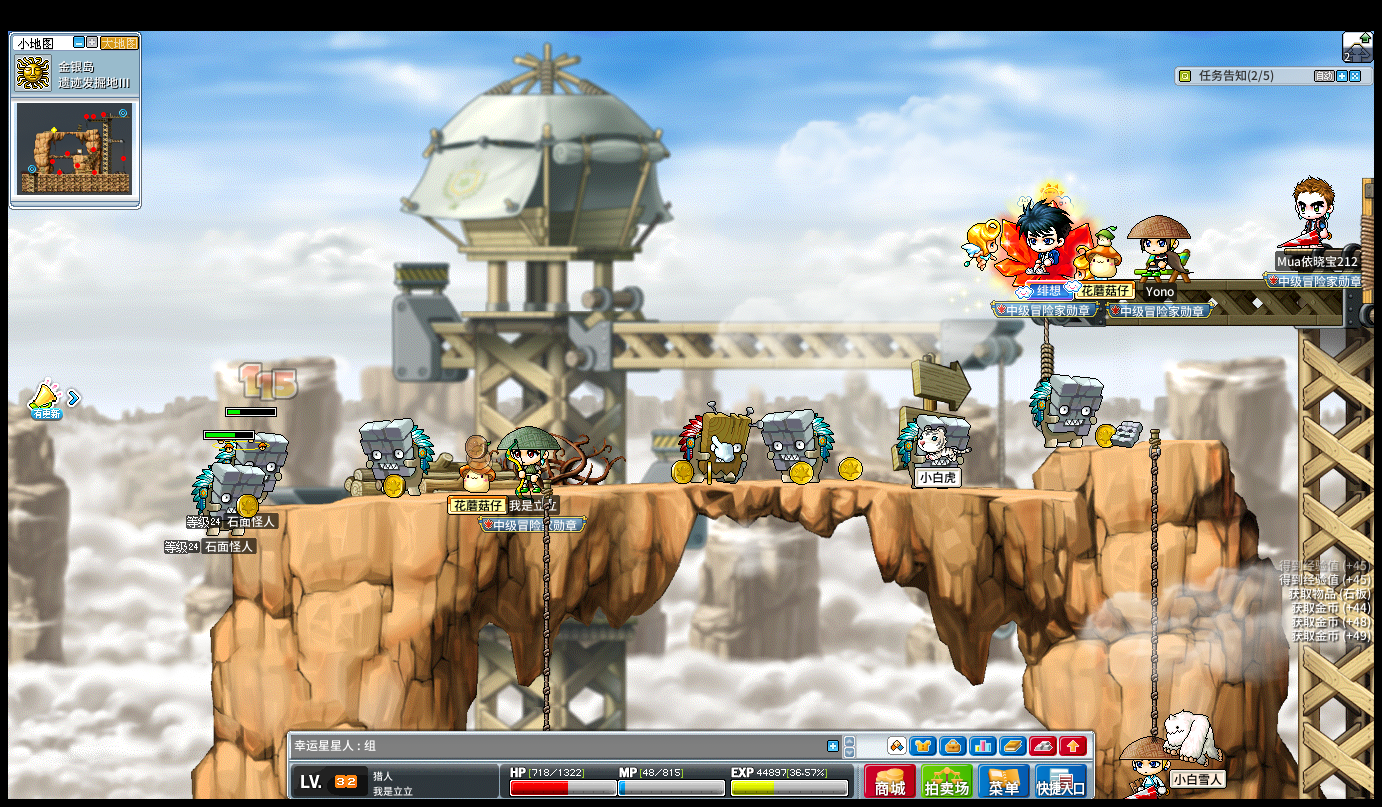floor: (234, 475, 1131, 504), (334, 477, 1085, 499), (1069, 435, 1225, 451)
monster: (679, 403, 756, 485), (359, 417, 433, 499), (895, 413, 972, 491), (1029, 371, 1103, 450), (760, 409, 834, 484), (190, 461, 262, 530), (253, 431, 289, 486)
rope: (1145, 427, 1161, 729), (539, 473, 551, 695)
